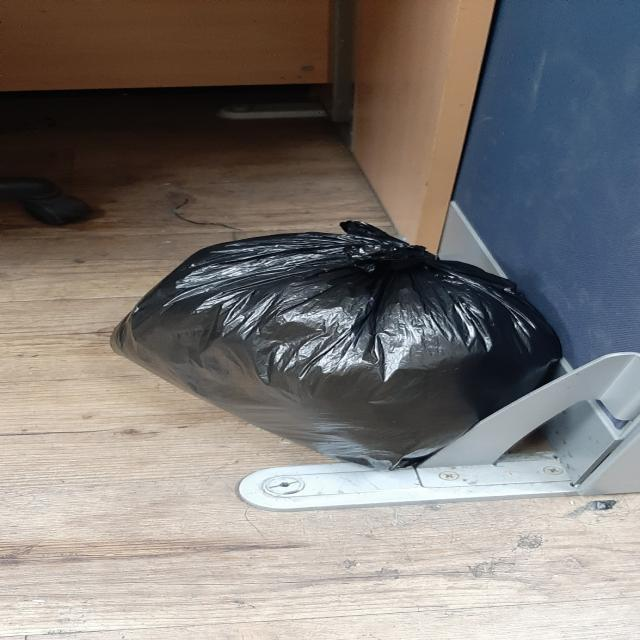black_bag: (111, 220, 564, 474)
